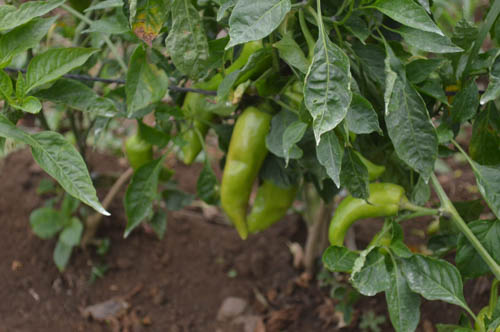ChiliPepper: (221, 109, 266, 242), (327, 182, 405, 245), (248, 173, 295, 244), (178, 88, 215, 167), (128, 140, 154, 185)
